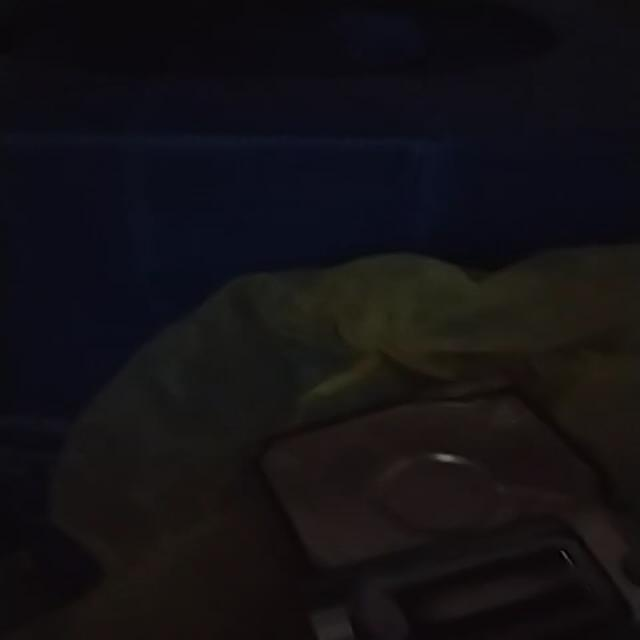bin: (0, 0, 638, 631)
metal: (259, 396, 637, 640)
